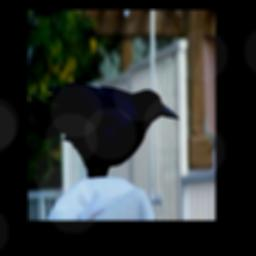Crow: (30, 81, 180, 176)
